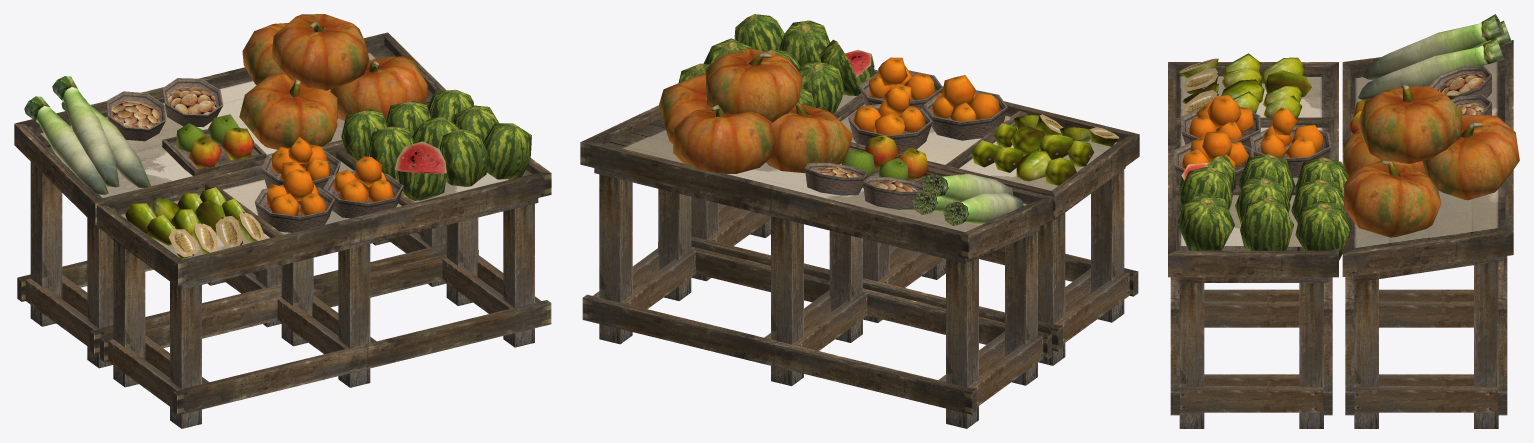
Rendered from shop0.fbx.
3 renders of one model, left to right at view 1: azimuth 30°, elevation 25°; view 2: azimuth 150°, elevation 25°; view 3: azimuth 270°, elevation 25°, orthographic. The views are drawn at different scales.
Visible parts, largest first — view 1: LV_M5_Port_FruitShop01_SM_KHJ; view 2: LV_M5_Port_FruitShop01_SM_KHJ; view 3: LV_M5_Port_FruitShop01_SM_KHJ.
Part boxes in pixels (<box>): LV_M5_Port_FruitShop01_SM_KHJ: <box>14,14,551,428</box>; LV_M5_Port_FruitShop01_SM_KHJ: <box>580,14,1139,428</box>; LV_M5_Port_FruitShop01_SM_KHJ: <box>1168,14,1519,428</box>.
Size of the model in its own units: 0.4454 by 0.3072 by 0.3433.
1 material, 1 textured.
